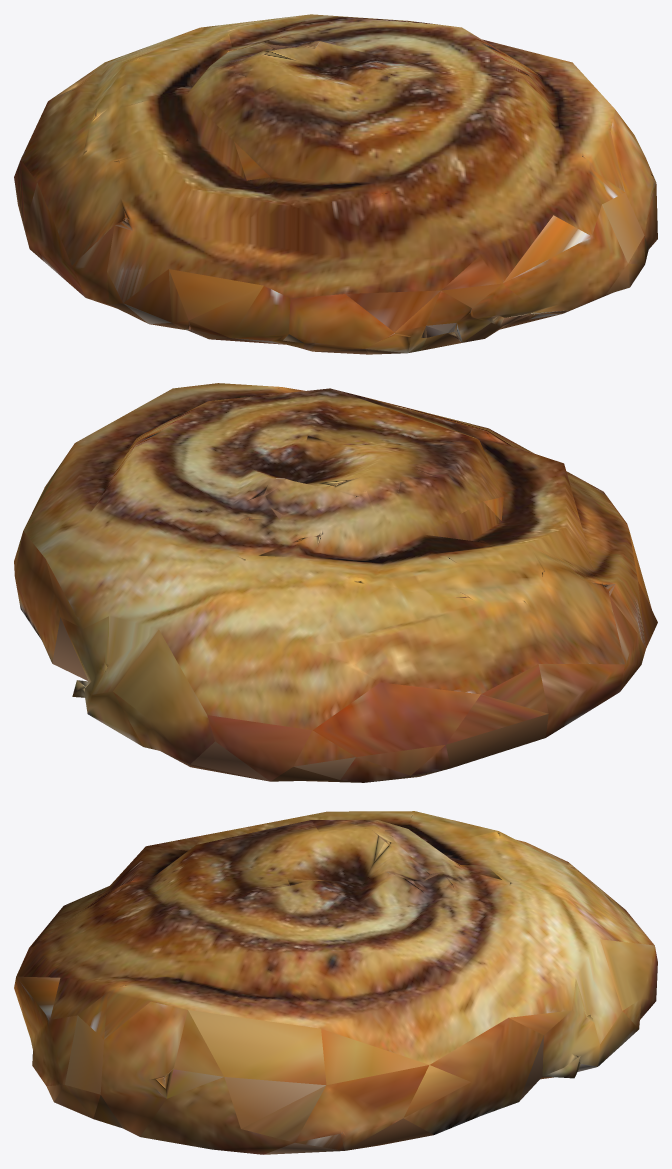
The model's file is cinnamon_1020.obj.
3 views of the same model, one above another, from view 1: azimuth 30°, elevation 25°; view 2: azimuth 150°, elevation 25°; view 3: azimuth 270°, elevation 25° (orthographic). The views are drawn at different scales.
Bounding box in the file's own units: 111 × 34 × 114.
Materials: 1 (1 with a texture image).
